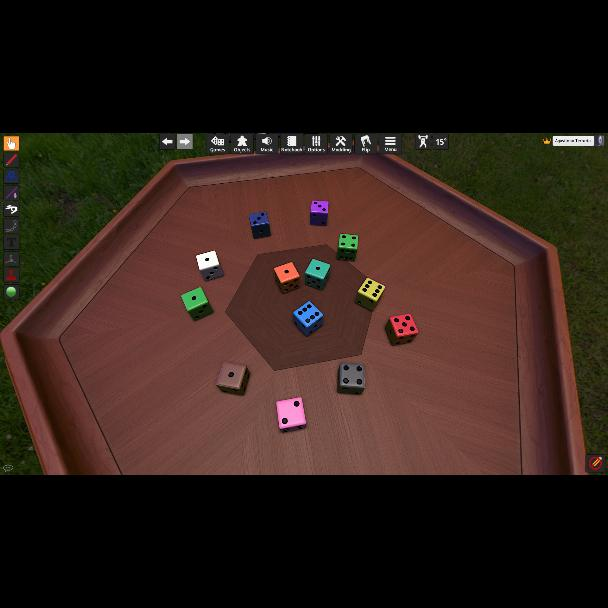d6: (292, 301, 323, 337), (275, 397, 305, 432), (216, 362, 248, 394), (182, 287, 212, 321), (386, 314, 415, 345), (356, 278, 384, 310), (337, 362, 365, 394), (274, 262, 300, 294), (304, 258, 330, 290), (196, 251, 222, 283), (249, 210, 271, 240), (336, 234, 358, 262), (310, 200, 328, 226)
